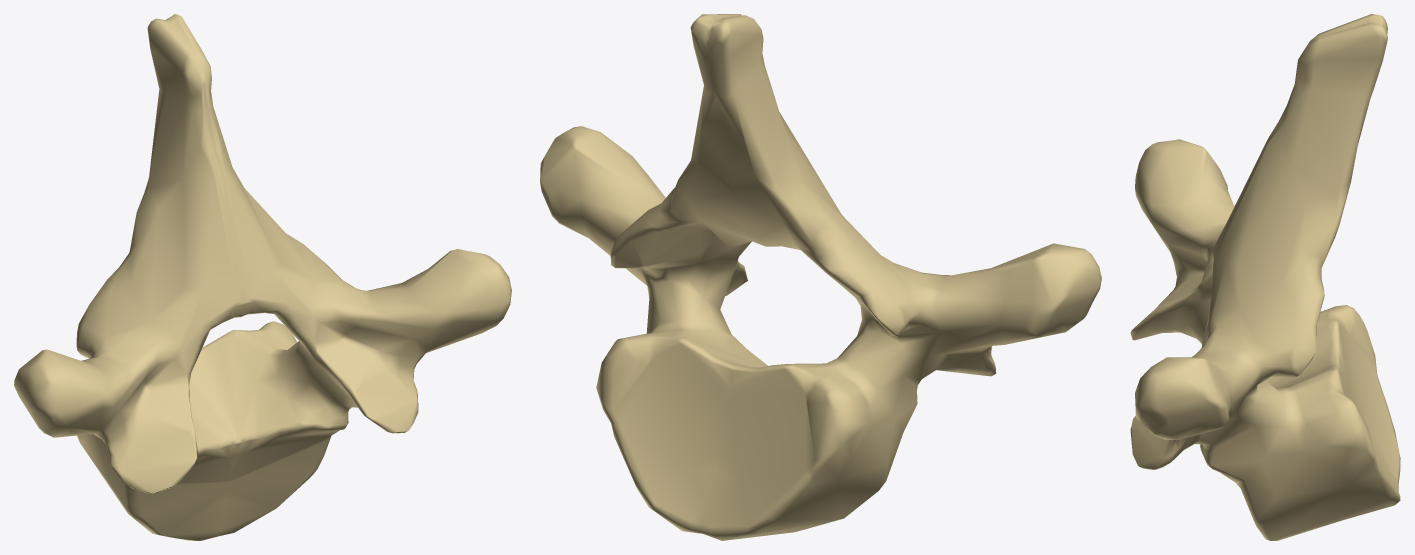
The picture shows the model from 3 angles, left to right: view 1: azimuth 30°, elevation 25°; view 2: azimuth 150°, elevation 25°; view 3: azimuth 270°, elevation 25°; orthographic projection. The views are drawn at different scales.
Parts seen in each view (by area): view 1: 第二胸椎; view 2: 第二胸椎; view 3: 第二胸椎.
Boxes of the visible parts, bbox=[...] form: 第二胸椎: bbox=[14, 14, 511, 540]; 第二胸椎: bbox=[540, 14, 1101, 540]; 第二胸椎: bbox=[1130, 14, 1400, 540].
Size of the model in its own units: 0.1107 by 0.1075 by 0.0516.
